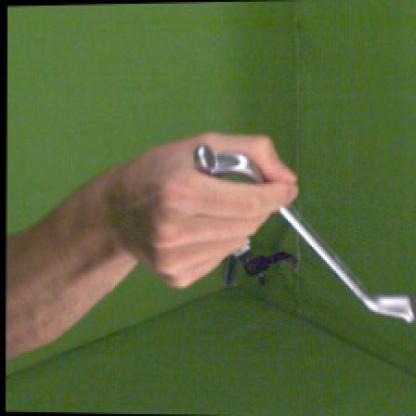Hand: (111, 132, 299, 290)
